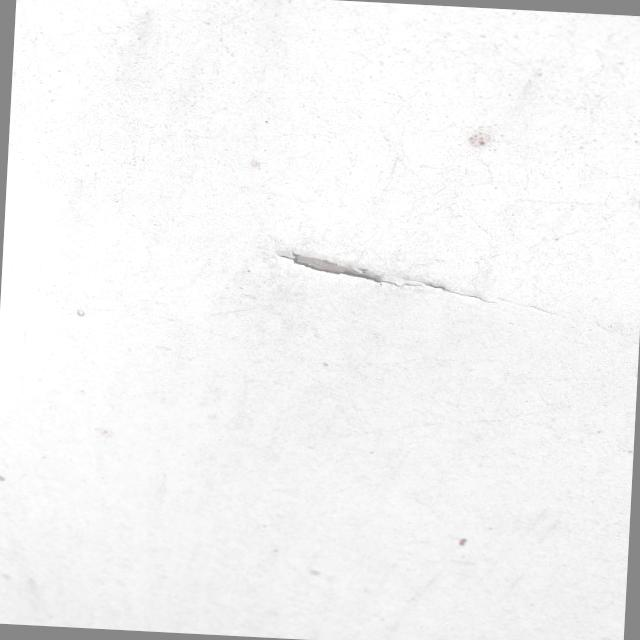crack: (286, 246, 564, 318)
